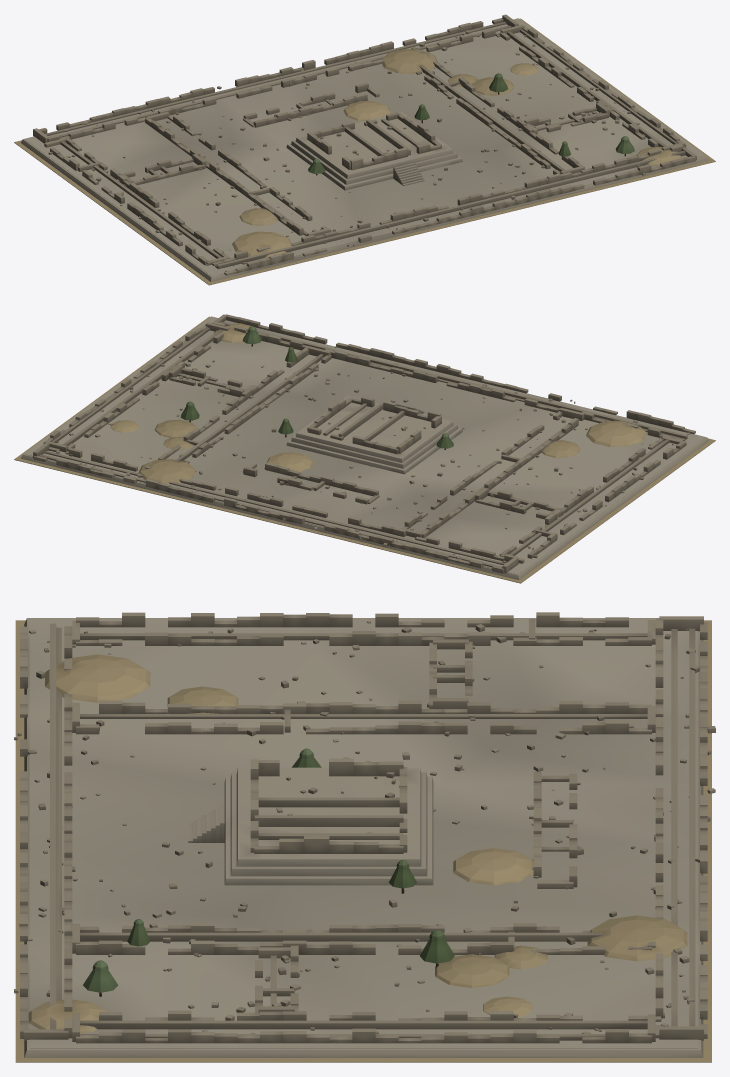
File: taakha-maryam-ruin.glb
The picture shows the model from 3 angles, top to bottom: view 1: azimuth 30°, elevation 25°; view 2: azimuth 150°, elevation 25°; view 3: azimuth 270°, elevation 25°; orthographic projection. The views are drawn at different scales.
Parts seen in each view (by area): view 1: p0_platform, p1_ranges, p2_pavilion; view 2: p0_platform, p1_ranges, p2_pavilion; view 3: p0_platform, p1_ranges, p2_pavilion.
Boxes of the visible parts, bbox=[...] form: p0_platform: bbox=[14, 18, 715, 285]; p1_ranges: bbox=[33, 14, 696, 275]; p2_pavilion: bbox=[286, 112, 462, 190]; p0_platform: bbox=[14, 316, 715, 583]; p1_ranges: bbox=[33, 314, 695, 573]; p2_pavilion: bbox=[286, 396, 462, 474]; p0_platform: bbox=[15, 618, 711, 1062]; p1_ranges: bbox=[14, 612, 715, 1043]; p2_pavilion: bbox=[188, 758, 433, 885].
Bounding box in the file's own units: 120 × 5.84 × 80.64.
